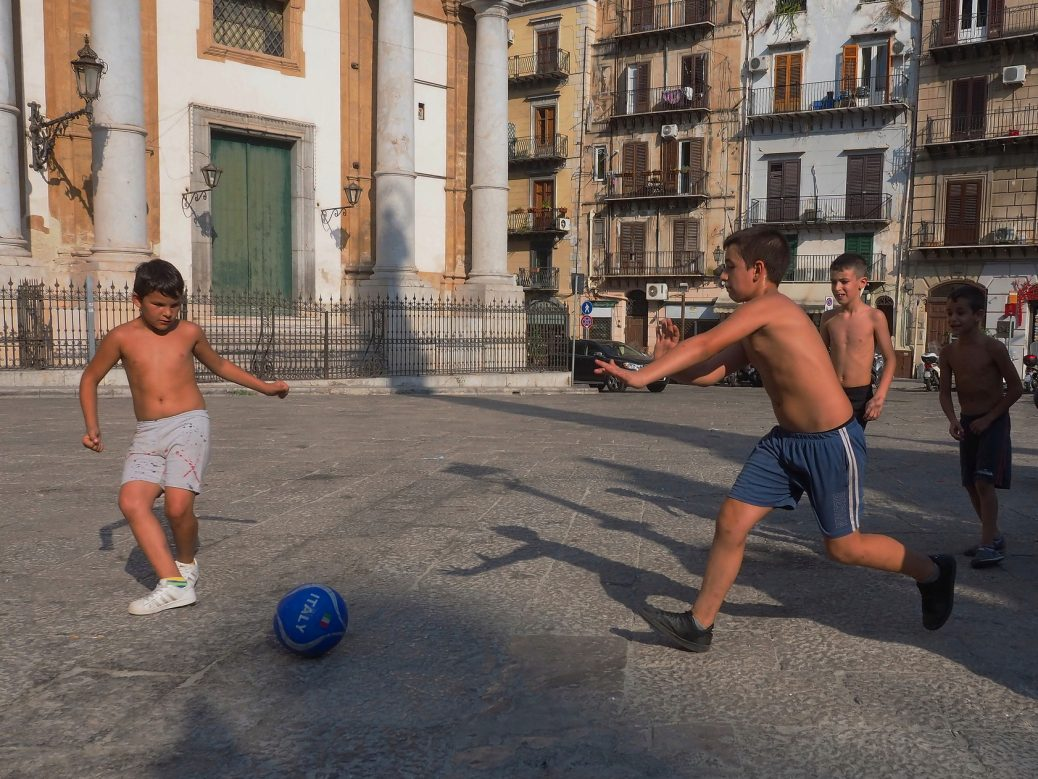Person: (601, 205, 965, 662), (51, 242, 297, 652), (910, 261, 1028, 576)
